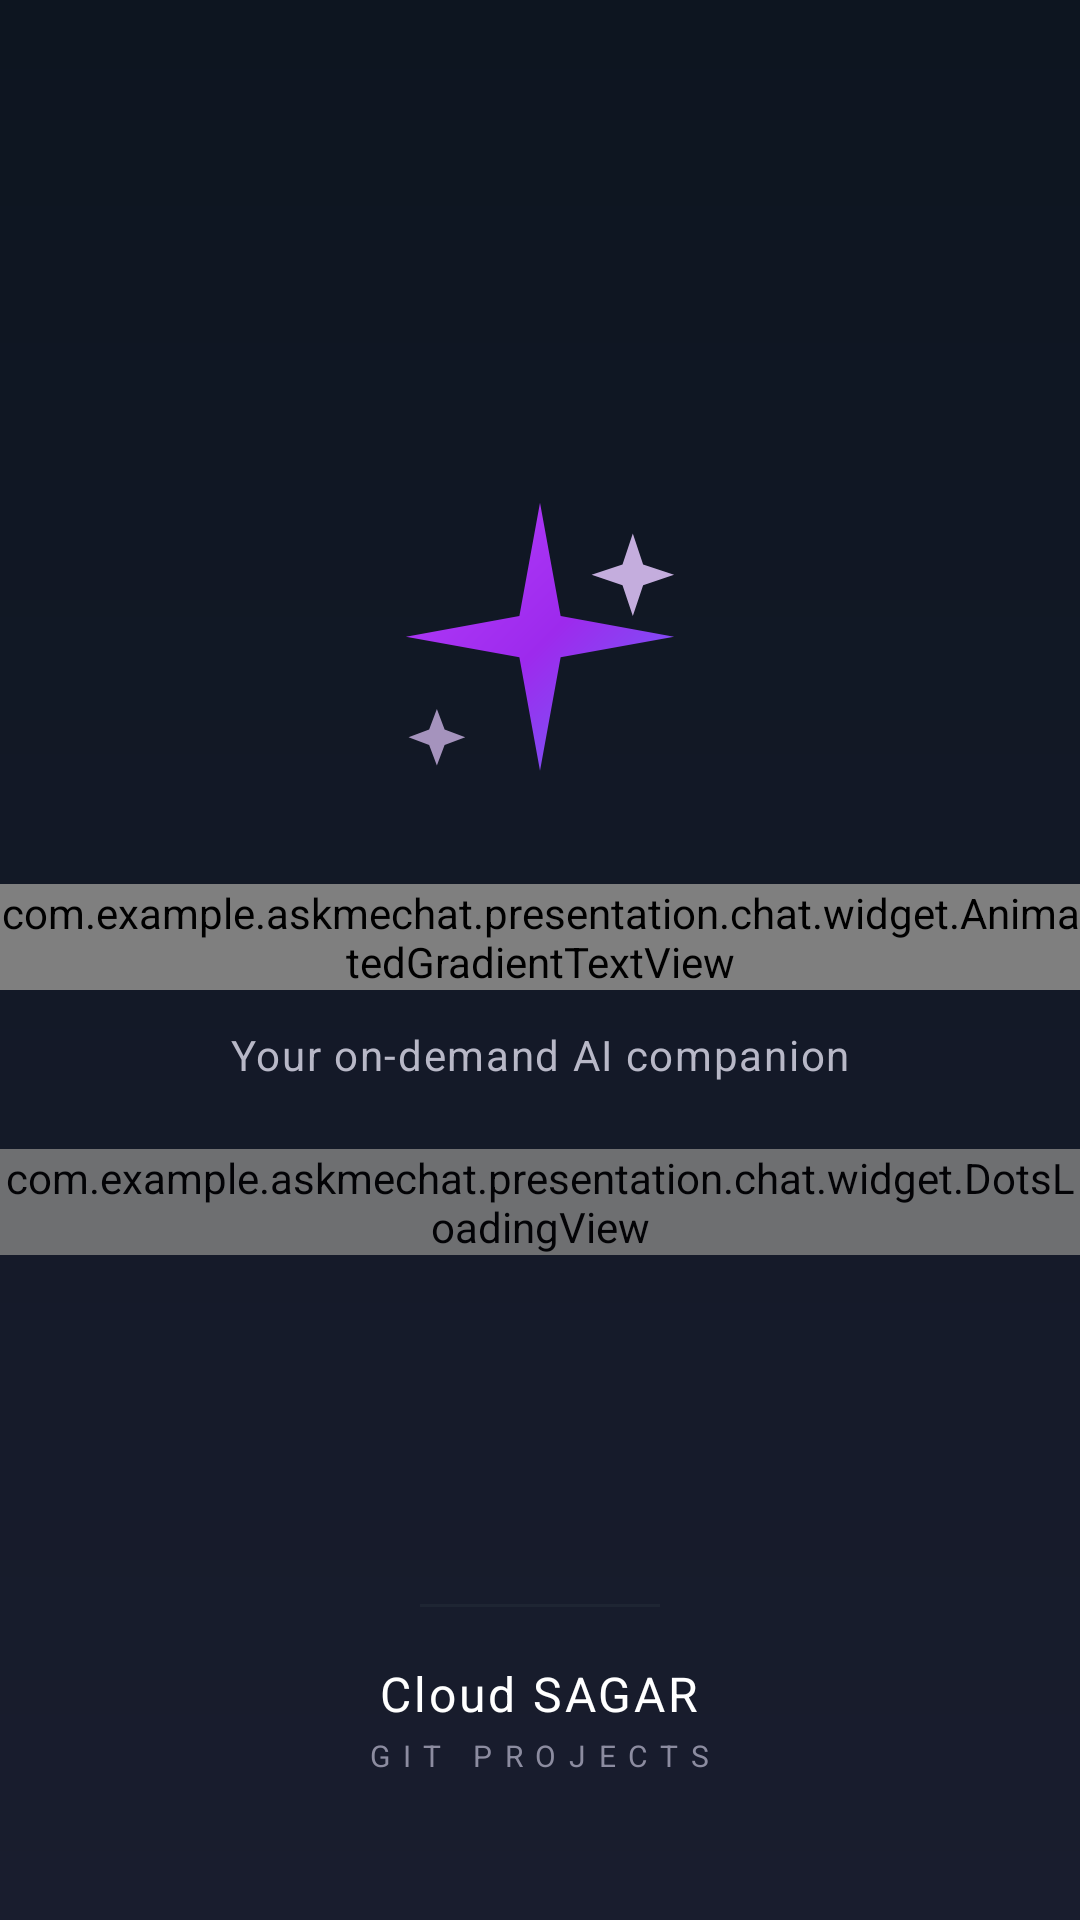

Locate icon controls on the screen. Image size 1080px x 1920px, boxes as {"x1": x1, "y1": y1, "x2": x2, "y2": y2}.
AskMe AI: {"x1": 406, "y1": 503, "x2": 674, "y2": 770}
